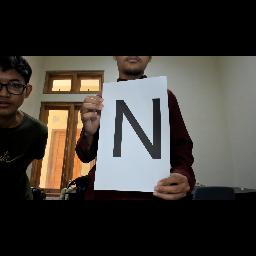n: (104, 94, 174, 166)
